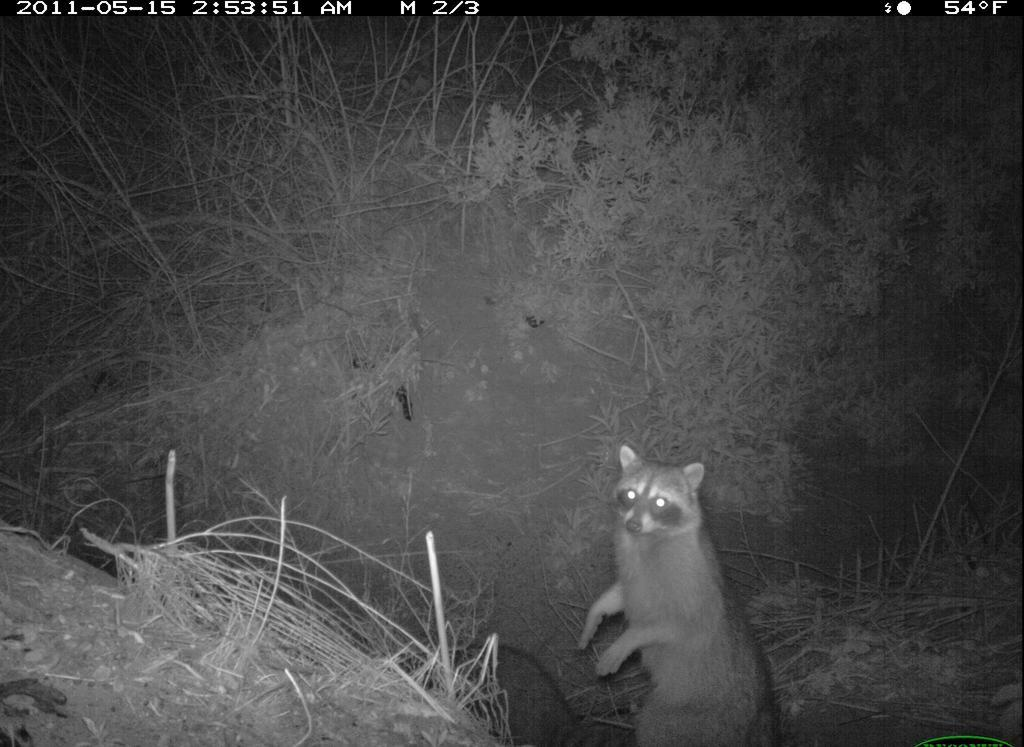raccoon: (571, 436, 790, 747), (425, 641, 641, 747)
